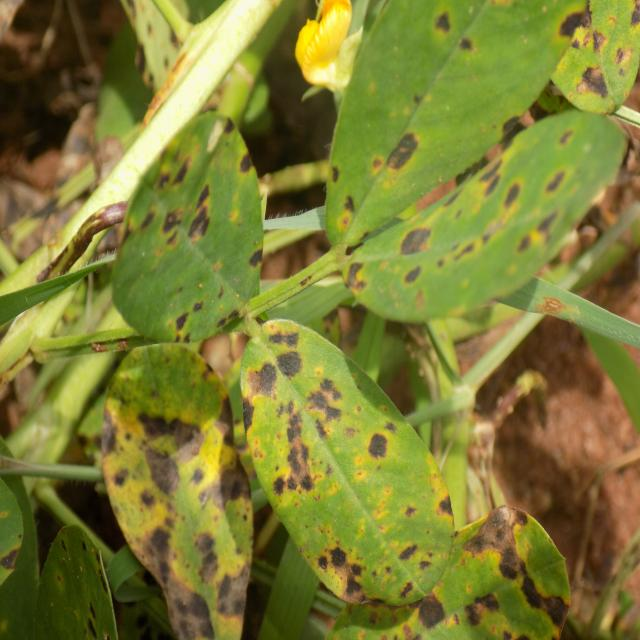Ground nut_tikka leaf spot: (237, 316, 458, 606), (344, 110, 640, 326), (94, 336, 253, 640), (110, 108, 266, 336)
